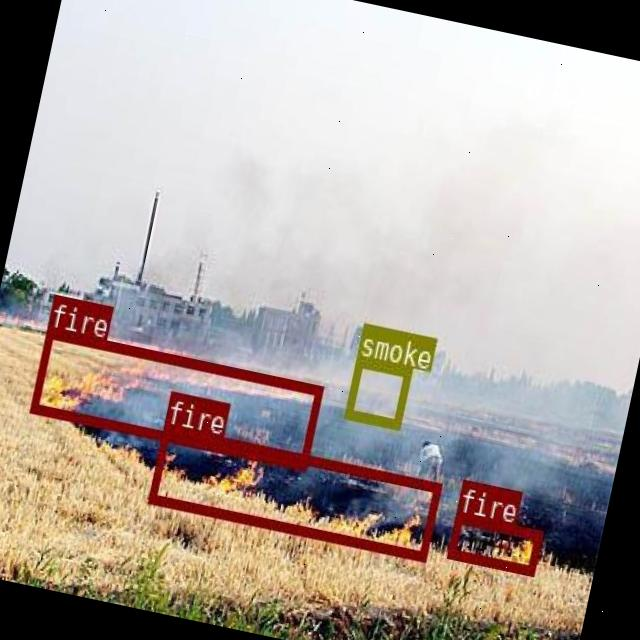fire: (28, 326, 322, 467), (147, 423, 440, 558), (446, 510, 542, 573)
smoke: (344, 356, 412, 428)
